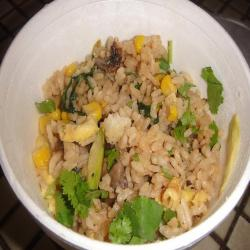rice: (38, 53, 213, 225)
